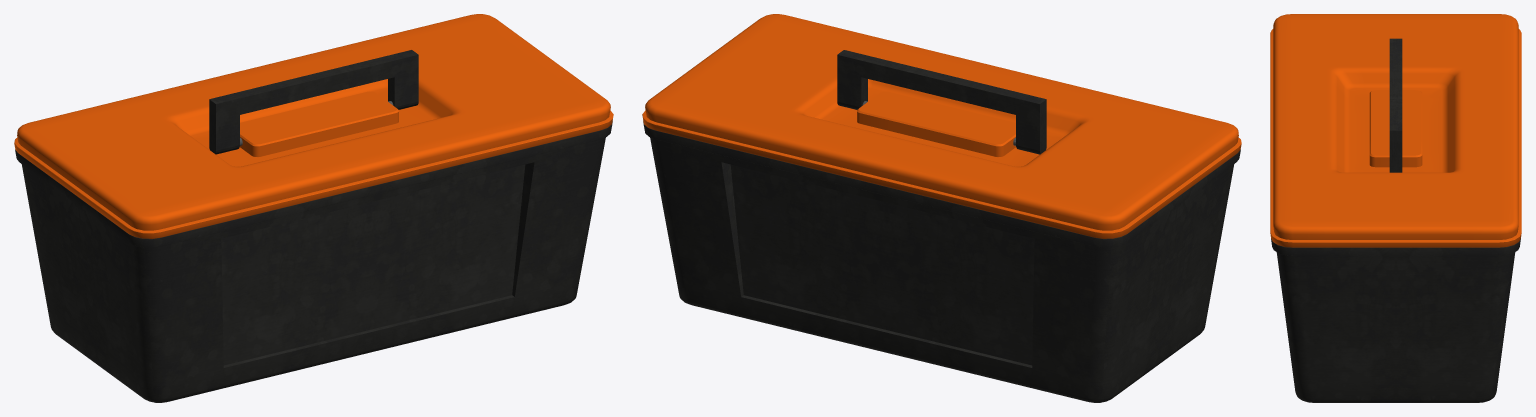
Rendered from toolbox_idle.glb.
3 views of the same model, side by side, from view 1: azimuth 30°, elevation 25°; view 2: azimuth 150°, elevation 25°; view 3: azimuth 270°, elevation 25° (orthographic). The views are drawn at different scales.
Parts seen in each view (by area): view 1: Cube, Cube.001; view 2: Cube, Cube.001; view 3: Cube.001, Cube.
Part boxes in pixels (left/top/right/bottom): Cube: left=15, top=121, right=612, bottom=402; Cube.001: left=14, top=14, right=613, bottom=238; Cube: left=643, top=121, right=1240, bottom=402; Cube.001: left=642, top=14, right=1241, bottom=238; Cube.001: left=1270, top=14, right=1521, bottom=247; Cube: left=1271, top=238, right=1520, bottom=402.
Size of the model in its own units: 0.7373 by 0.3494 by 0.3576.
Materials: 3 (2 with a texture image).
